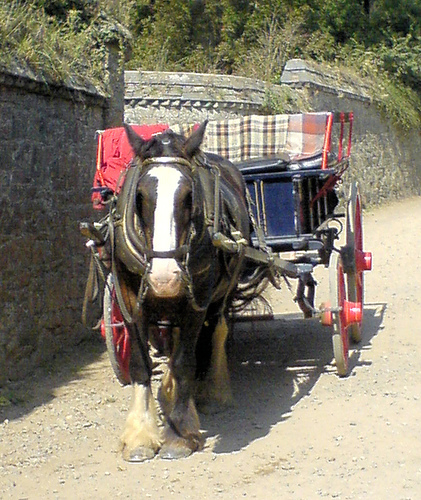horse: (104, 117, 253, 464)
